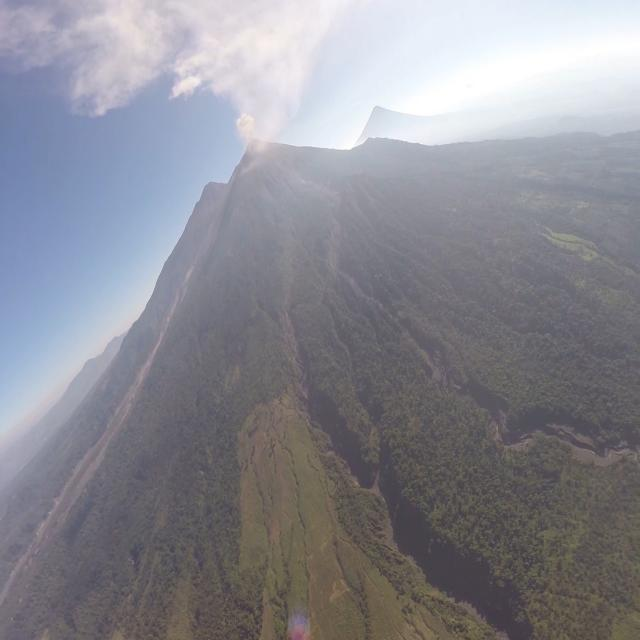Plume: (234, 112, 256, 142)
Summit: (238, 134, 278, 164)
